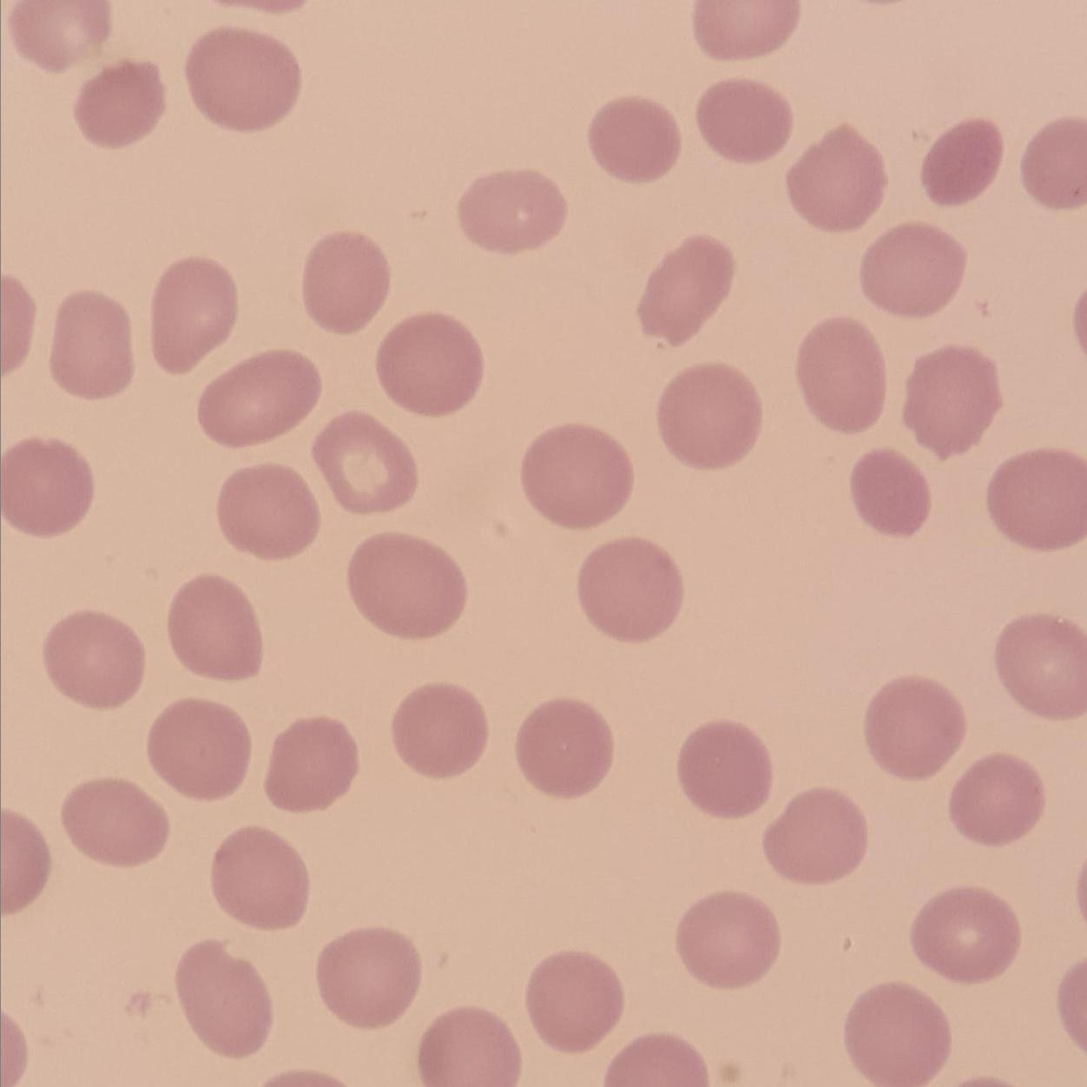Uninfected: (347, 534, 466, 639), (185, 28, 300, 131), (172, 941, 272, 1059), (198, 349, 320, 445), (518, 423, 630, 526), (655, 362, 760, 468), (577, 538, 681, 642), (377, 313, 483, 415), (316, 926, 422, 1028), (903, 345, 1000, 456), (313, 412, 418, 514), (148, 697, 252, 799), (795, 317, 887, 432), (167, 576, 266, 682), (150, 256, 240, 372), (844, 985, 947, 1086), (210, 827, 310, 931), (214, 463, 320, 561), (911, 887, 1018, 984), (790, 122, 886, 230), (986, 448, 1087, 550), (863, 677, 964, 779), (675, 890, 779, 988), (636, 236, 732, 342), (42, 609, 144, 708), (60, 777, 168, 868), (524, 951, 622, 1051), (763, 788, 866, 883), (515, 697, 613, 796), (993, 614, 1087, 717), (391, 682, 489, 779), (860, 223, 962, 316), (49, 289, 136, 398), (676, 721, 773, 818), (1, 437, 95, 537), (457, 168, 564, 253), (302, 231, 392, 332), (946, 754, 1041, 847), (264, 717, 357, 811), (695, 78, 791, 162), (74, 60, 165, 148), (588, 96, 679, 181), (416, 1010, 516, 1086), (921, 118, 1005, 206), (851, 447, 931, 536)
